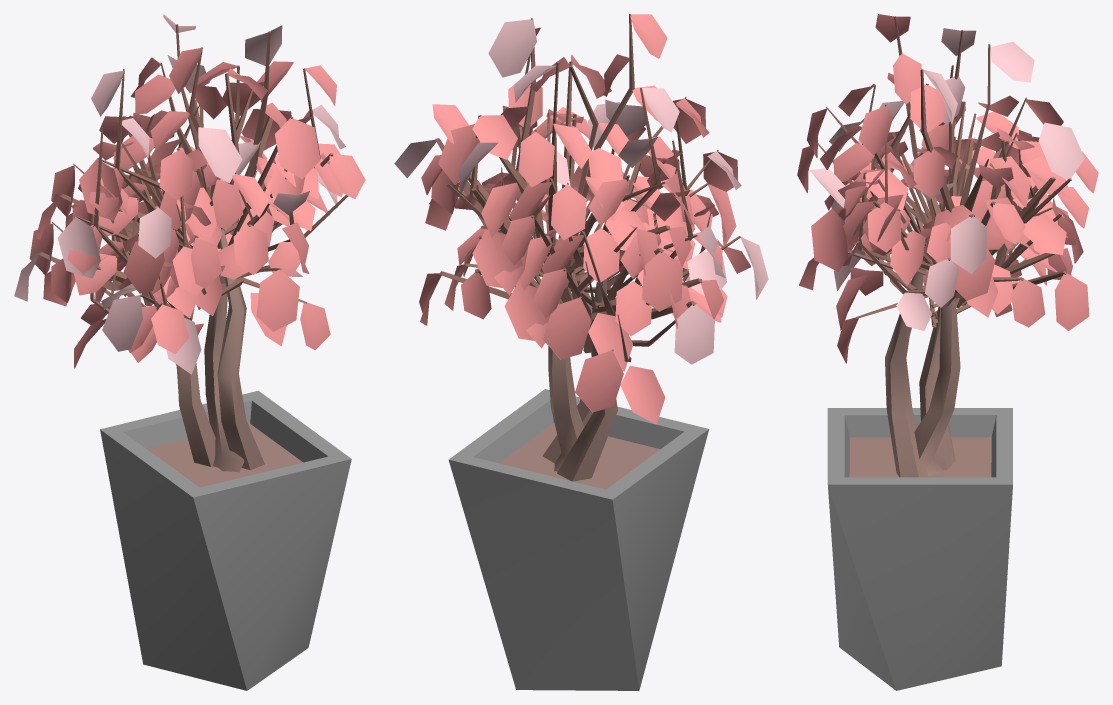
Rendered from flower_007.fbx.
The picture shows the model from 3 angles, left to right: view 1: azimuth 30°, elevation 25°; view 2: azimuth 150°, elevation 25°; view 3: azimuth 270°, elevation 25°; orthographic projection. The views are drawn at different scales.
Visible parts, largest first — view 1: flower_007; view 2: flower_007; view 3: flower_007.
Part boxes in pixels (x1=…): flower_007: x1=14, y1=14, x2=365, y2=690; flower_007: x1=394, y1=14, x2=768, y2=690; flower_007: x1=797, y1=14, x2=1098, y2=690.
Size of the model in its own units: 58.1 by 48.36 by 110.
